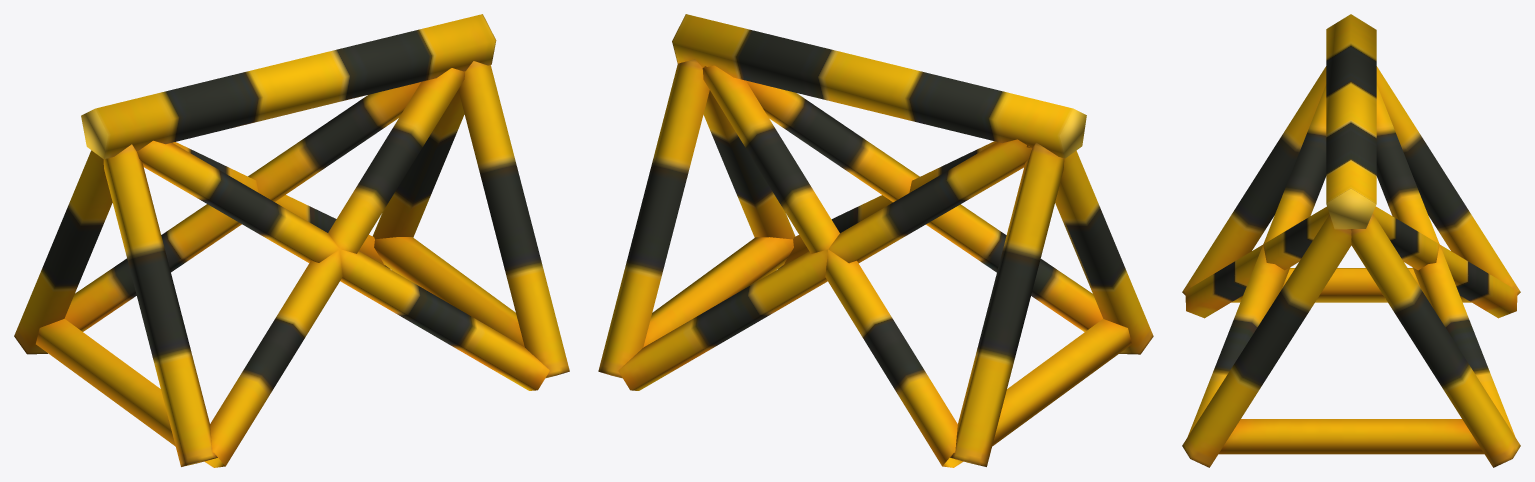
The picture shows the model from 3 angles, left to right: view 1: azimuth 30°, elevation 25°; view 2: azimuth 150°, elevation 25°; view 3: azimuth 270°, elevation 25°; orthographic projection. The views are drawn at different scales.
Parts seen in each view (by area): view 1: 路障; view 2: 路障; view 3: 路障.
Part boxes in pixels (left/top/right/bottom): 路障: left=14, top=14, right=569, bottom=467; 路障: left=598, top=14, right=1153, bottom=467; 路障: left=1182, top=14, right=1520, bottom=467.
Bounding box in the file's own units: 1.31 × 1.01 × 1.08.
1 material, 1 textured.
